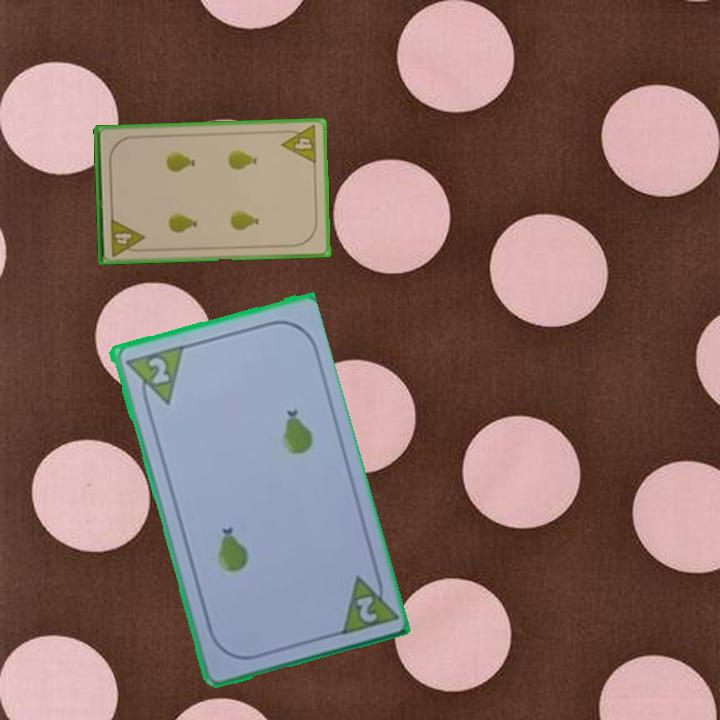2p: (334, 565, 399, 638), (144, 353, 172, 387)
4p: (278, 122, 320, 166), (107, 215, 147, 259)
